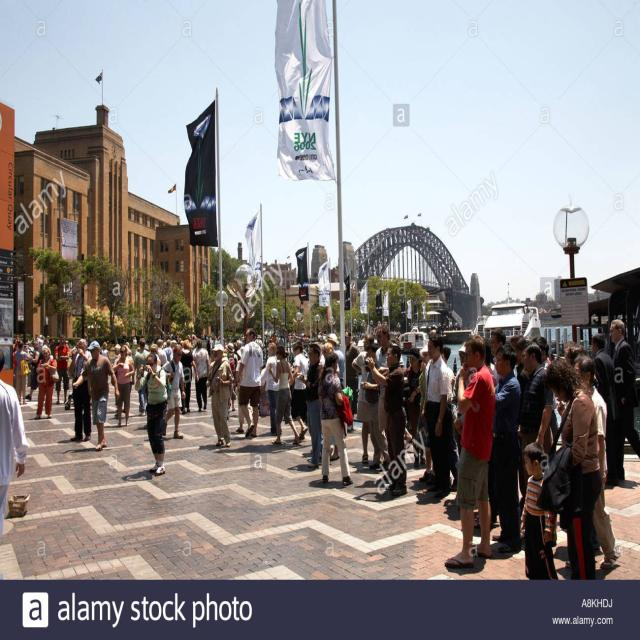body: (534, 355, 605, 580), (406, 320, 602, 390), (443, 333, 497, 570), (573, 357, 621, 570), (122, 320, 407, 354), (489, 342, 522, 553), (364, 344, 408, 498), (0, 347, 30, 539), (519, 440, 560, 580), (516, 341, 554, 491), (71, 338, 121, 452), (13, 333, 95, 399), (420, 333, 452, 500), (608, 318, 640, 481), (316, 350, 354, 487), (133, 351, 169, 478), (360, 343, 392, 470), (373, 321, 407, 440), (591, 333, 617, 486), (267, 343, 303, 446), (296, 343, 324, 469), (233, 326, 264, 439), (350, 332, 376, 465), (205, 342, 235, 448), (158, 343, 186, 439), (405, 346, 426, 468), (68, 338, 92, 443), (418, 344, 434, 483), (288, 341, 309, 442), (111, 343, 135, 428), (34, 346, 61, 420), (261, 341, 282, 436), (178, 339, 200, 416), (191, 338, 211, 413), (132, 337, 150, 417), (345, 331, 361, 415), (13, 338, 32, 406), (326, 331, 346, 389), (234, 346, 247, 434), (55, 334, 71, 404), (25, 340, 43, 401), (224, 341, 238, 412), (112, 343, 124, 414), (218, 353, 233, 399), (321, 341, 335, 369), (100, 340, 114, 368), (156, 338, 168, 367), (150, 342, 162, 368), (254, 334, 264, 362), (162, 338, 172, 361), (206, 340, 211, 358)
